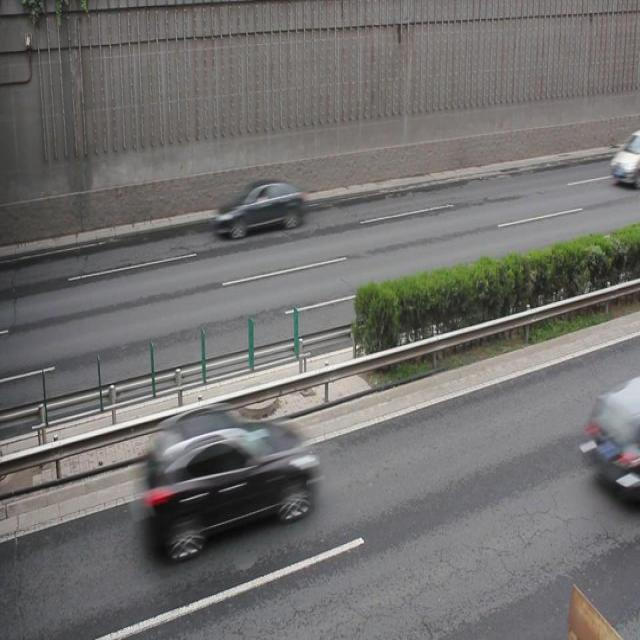car: (141, 403, 319, 559), (584, 372, 640, 500), (214, 176, 307, 236)
truck: (608, 126, 640, 186)
